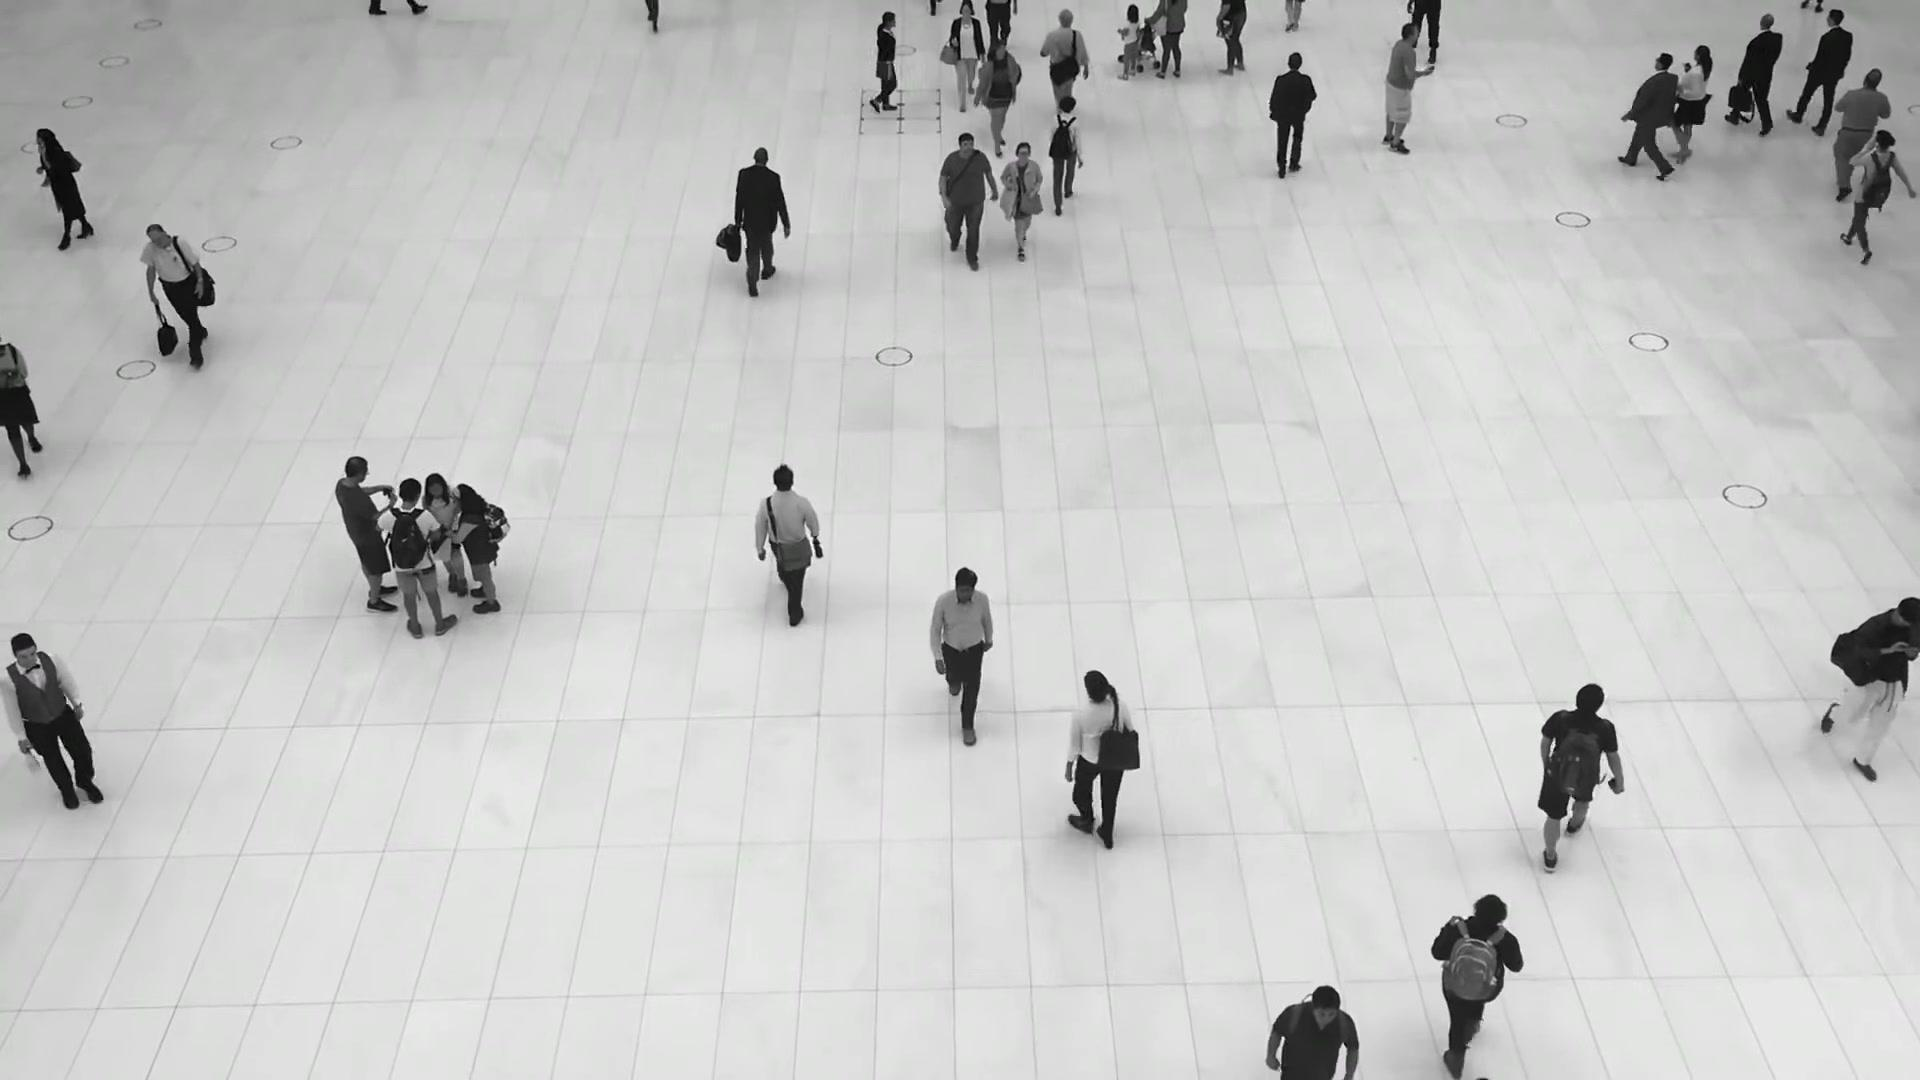person: (0, 631, 118, 822), (1433, 895, 1525, 1080), (1830, 595, 1920, 778), (1539, 684, 1622, 876), (1054, 672, 1133, 863), (379, 477, 460, 635), (928, 565, 997, 745), (752, 462, 823, 621), (139, 221, 214, 363), (333, 455, 399, 608), (1259, 984, 1360, 1080), (1842, 128, 1912, 263), (931, 131, 997, 273), (1825, 65, 1892, 193), (733, 147, 789, 296), (1721, 12, 1785, 133), (34, 127, 95, 250), (1621, 50, 1680, 176), (1794, 8, 1852, 135), (449, 482, 502, 614), (1267, 54, 1318, 187), (1658, 47, 1712, 169), (1380, 23, 1428, 155), (422, 469, 469, 592), (999, 140, 1043, 265), (1040, 7, 1090, 115), (976, 40, 1019, 154), (1046, 93, 1085, 210), (868, 12, 912, 114), (947, 0, 985, 108), (1115, 4, 1139, 80)
